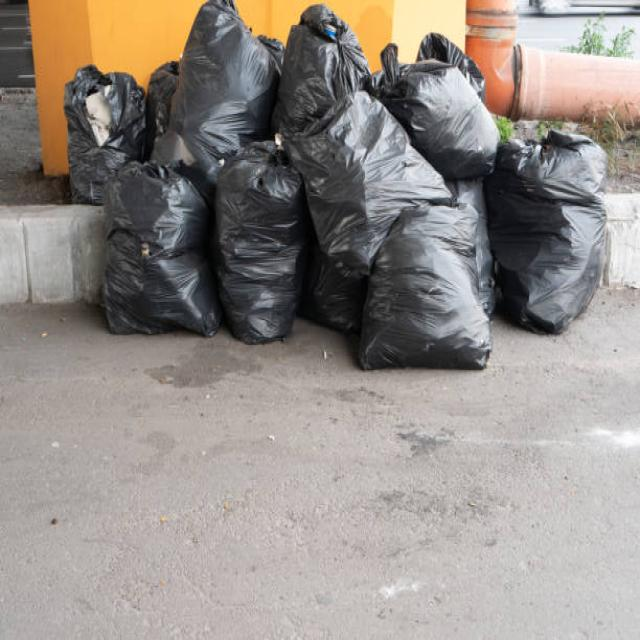garbage: (33, 4, 616, 378)
